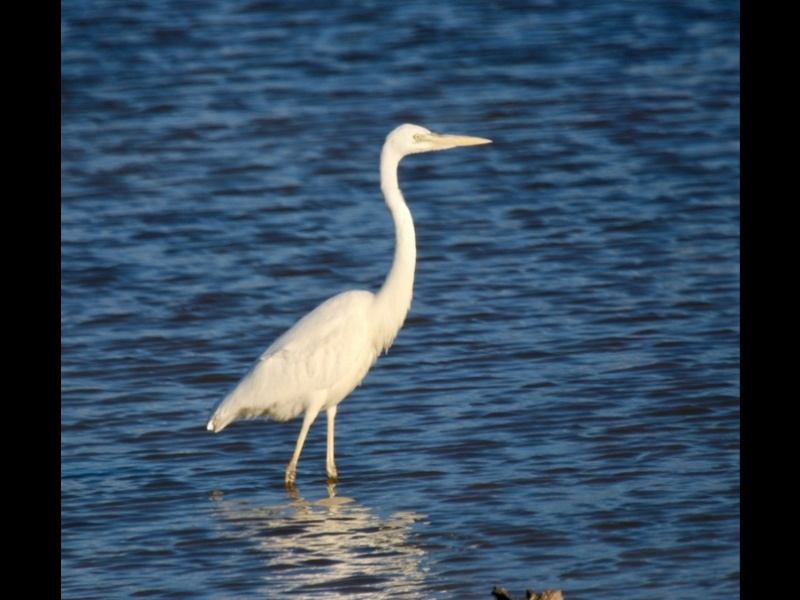heron: (204, 118, 496, 487)
